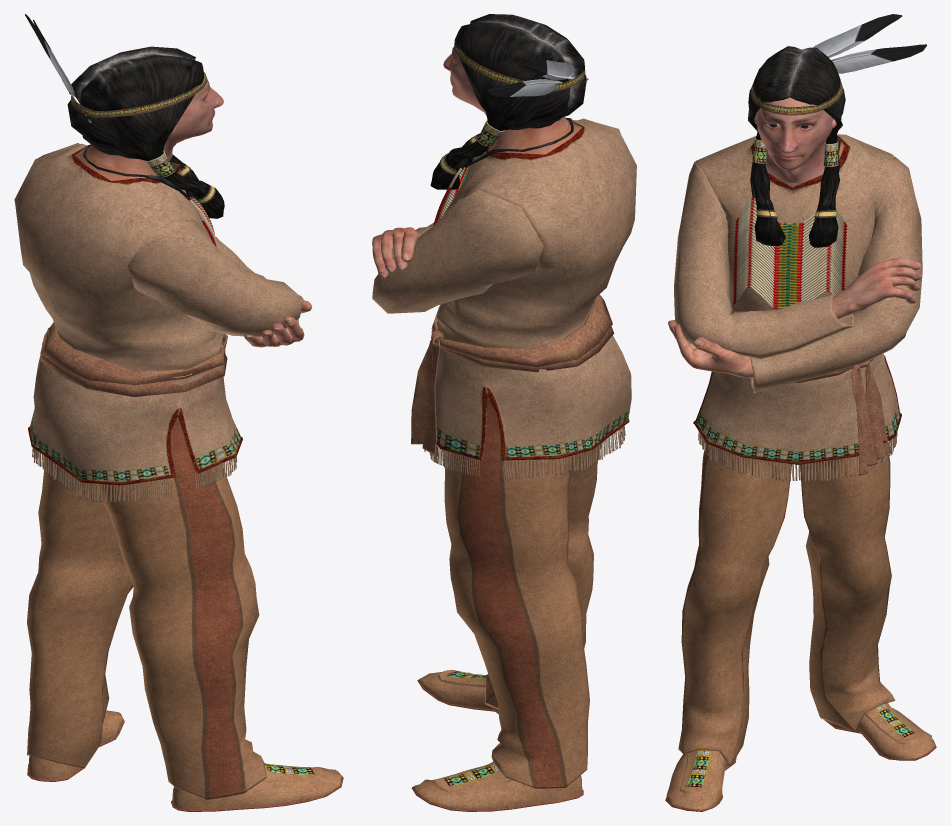
Rendered from Indio.fbx.
The picture shows the model from 3 angles, left to right: view 1: azimuth 30°, elevation 25°; view 2: azimuth 150°, elevation 25°; view 3: azimuth 270°, elevation 25°; orthographic projection. The views are drawn at different scales.
Parts seen in each view (by area): view 1: 11551_Native_American_v2_l1; view 2: 11551_Native_American_v2_l1; view 3: 11551_Native_American_v2_l1.
Part boxes in pixels (x1,y1,x2,y2): 11551_Native_American_v2_l1: (14, 14, 343, 811); 11551_Native_American_v2_l1: (372, 14, 636, 811); 11551_Native_American_v2_l1: (665, 14, 936, 811).
Bounding box in the file's own units: 363 × 1041 × 361.
